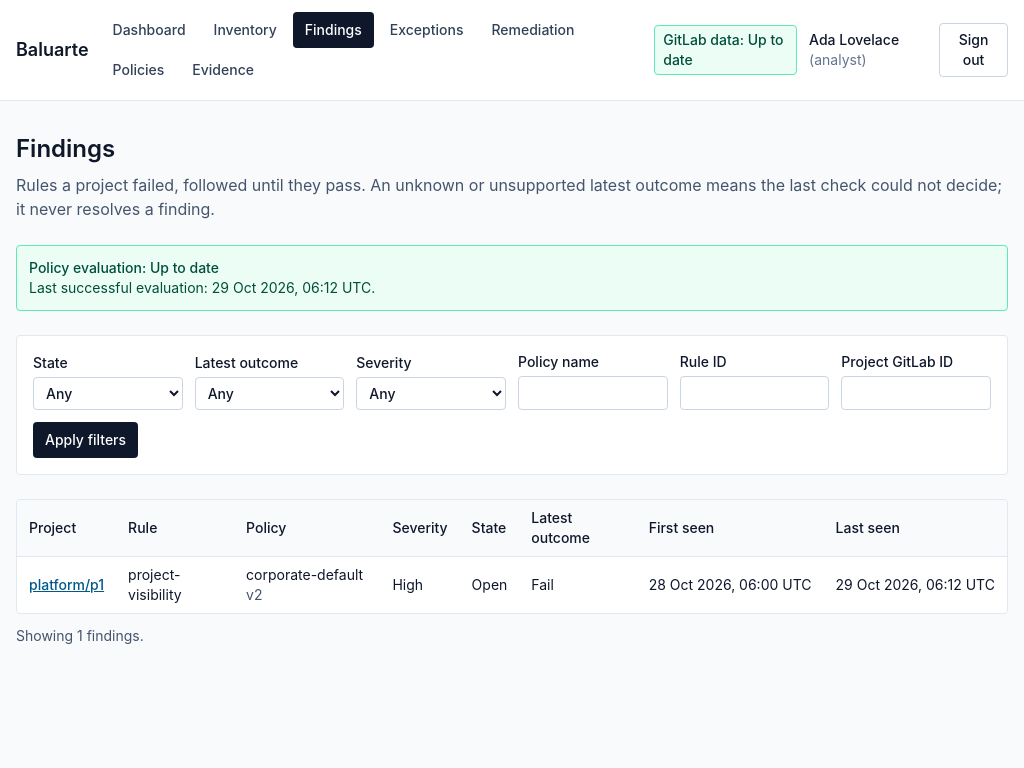
Test: findings list › applies and clears filters
Expected: the column heading "platform/p1" is shown, [17,557,116,613]
Step 1. Select "Critical" in the dropdown labelled "Severity" → (431, 394), box [356,377,506,410]
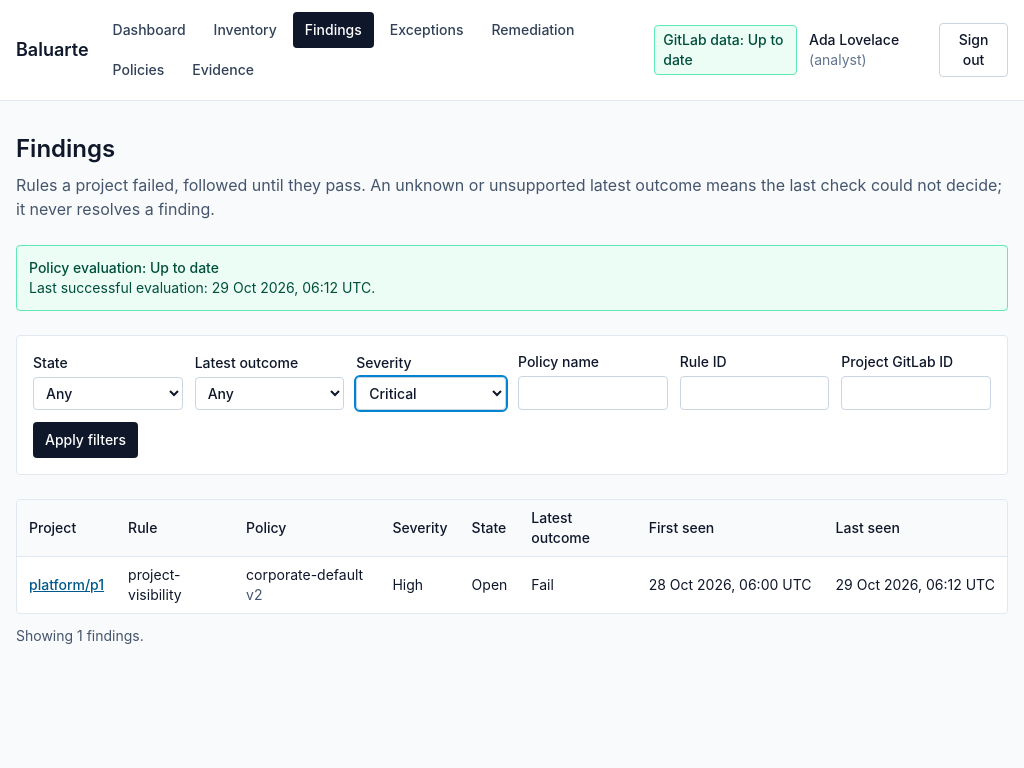
Step 2. Type "protected-default-branch" into the field labelled "Rule ID" → (755, 393), box [680,376,829,410]
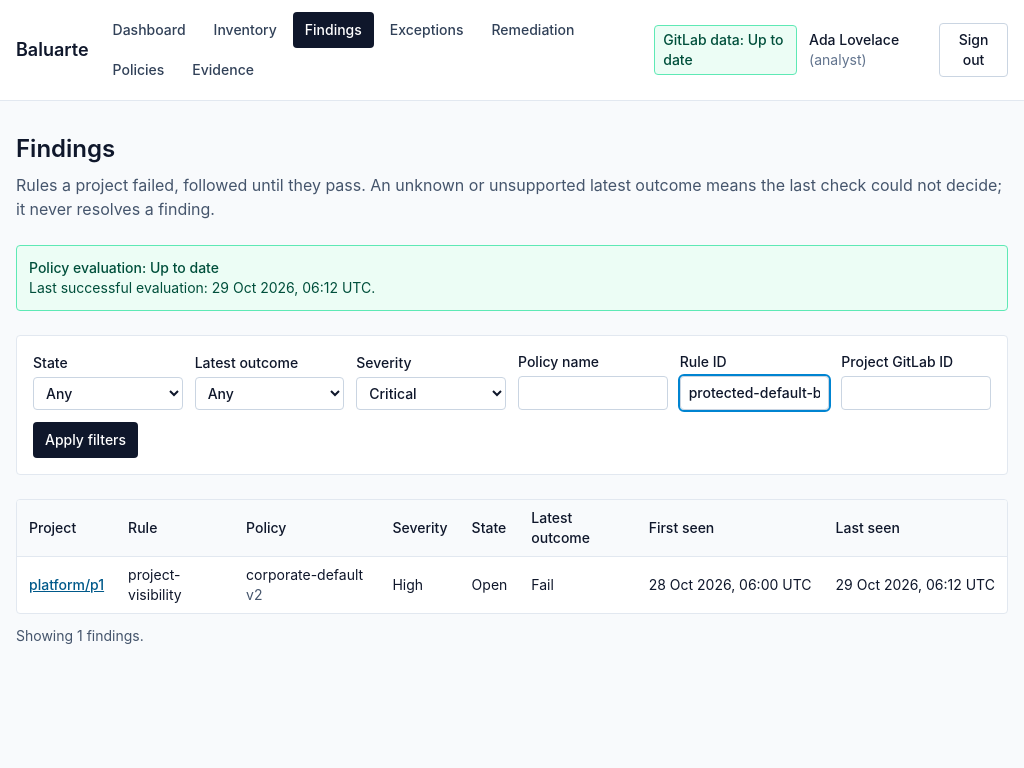
Step 3. Type "105" into the number field labelled "Project GitLab ID" → (916, 393), box [841,376,991,410]
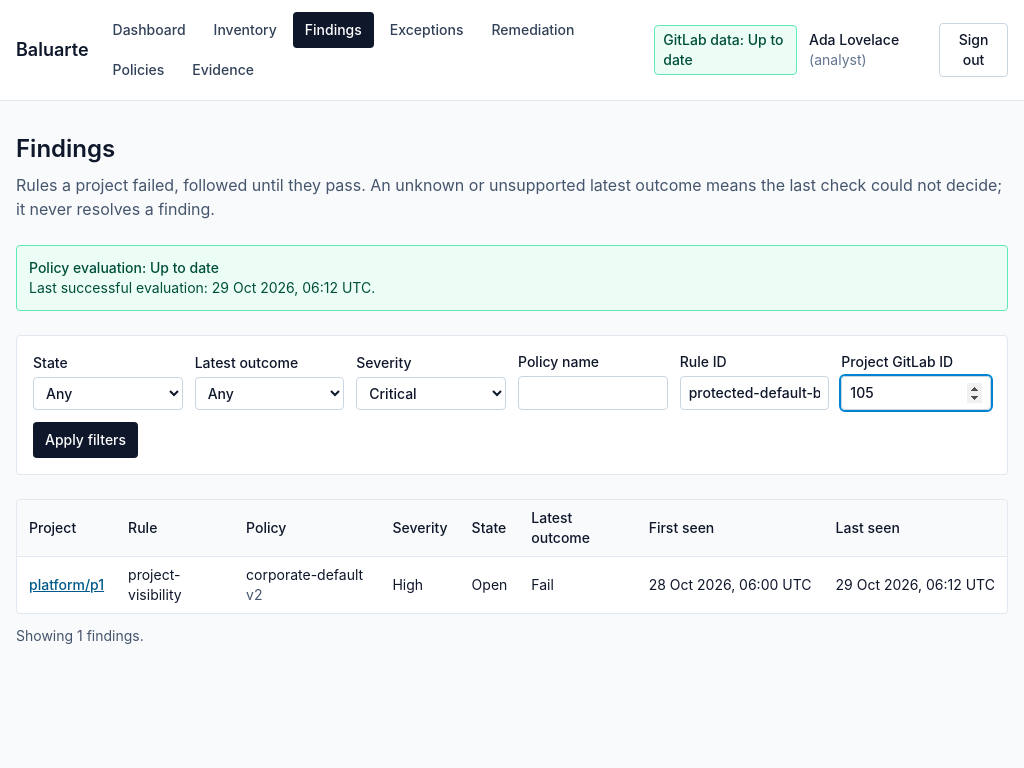
Step 4. Click the button "Apply filters" → (86, 440), box [33,422,138,458]
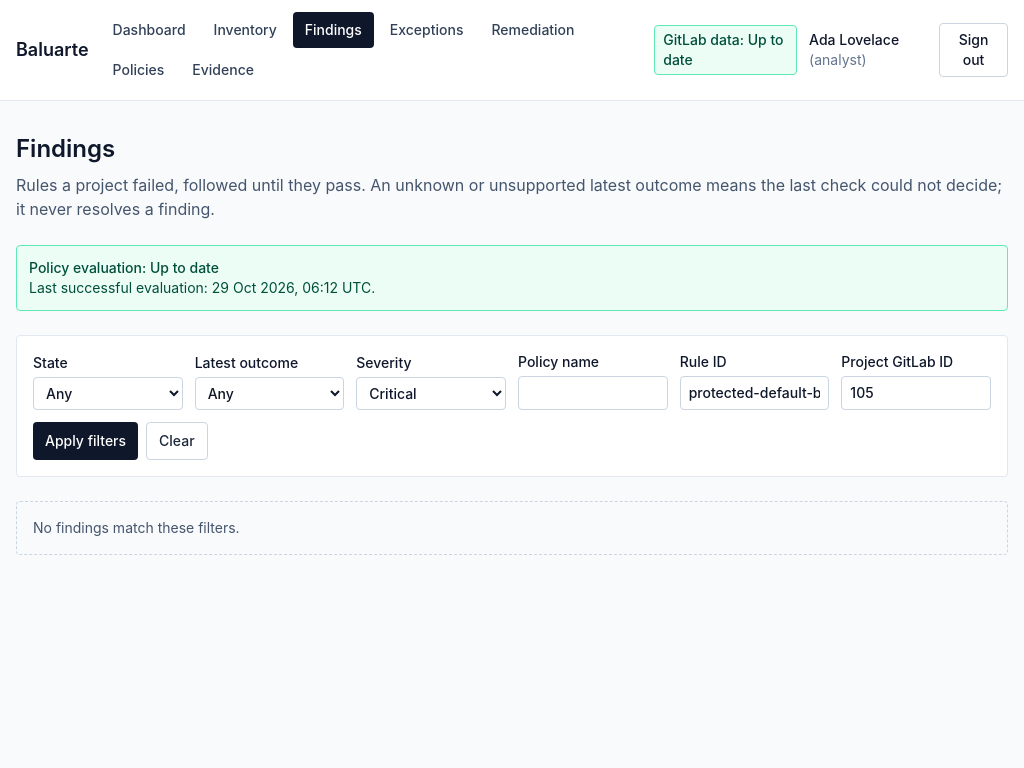
Result: the text "No findings match these filters." is shown at [16,501,1008,555]
Step 5. Click the link "Clear" → (177, 441), box [146,422,208,460]
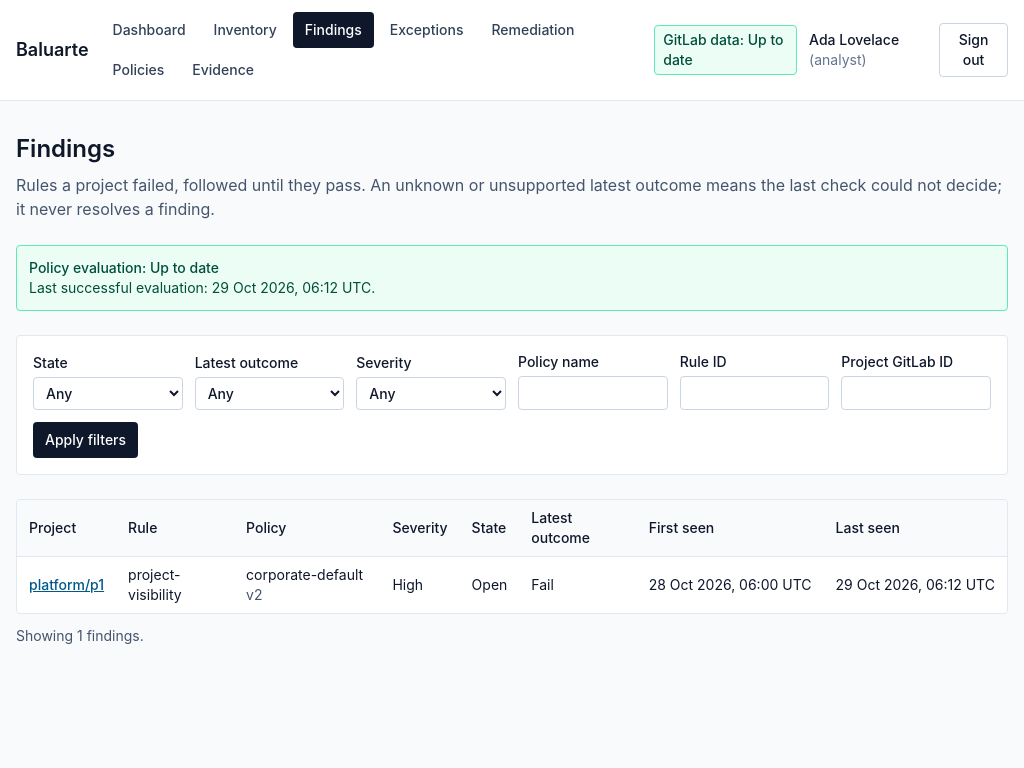
Result: the column heading "platform/p1" is shown at [17,557,116,613]
